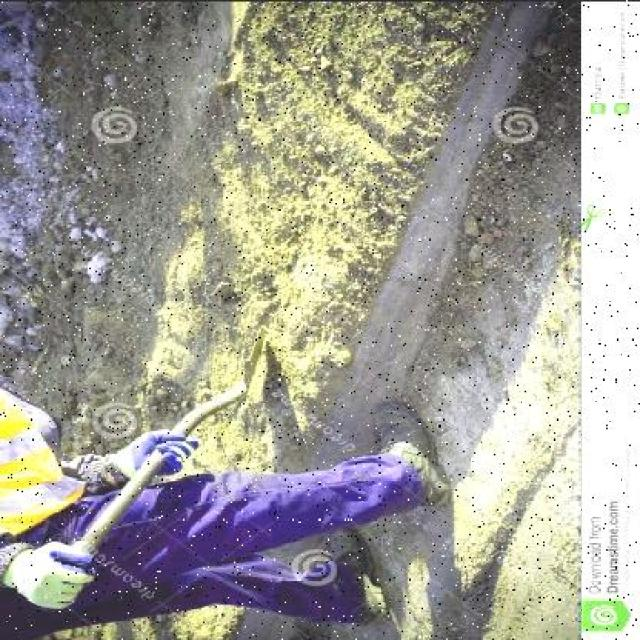shoes: (376, 400, 444, 500), (324, 534, 384, 620)
